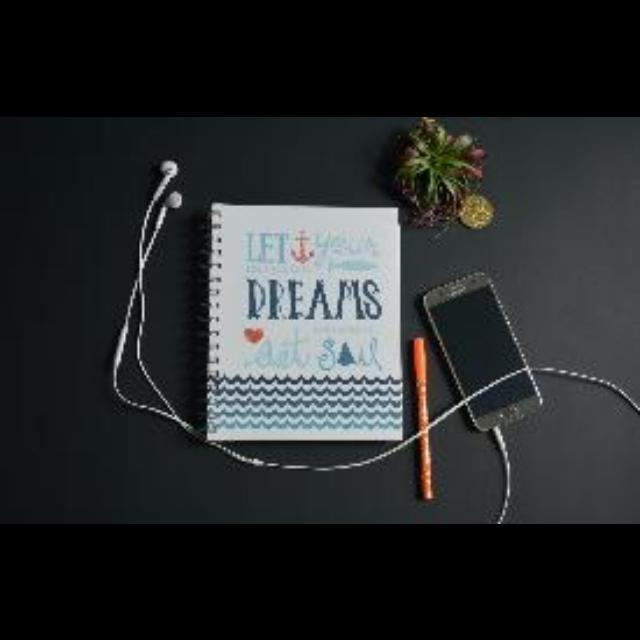PhoneUse: (423, 272, 541, 430)
